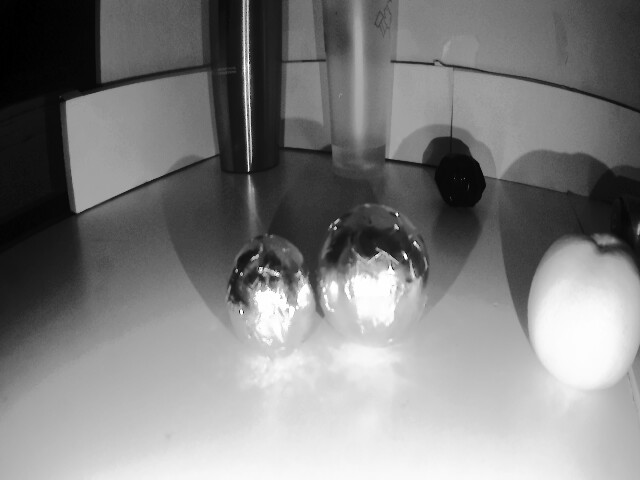black: (314, 205, 432, 346), (229, 237, 317, 357)
silver: (440, 150, 485, 210)
